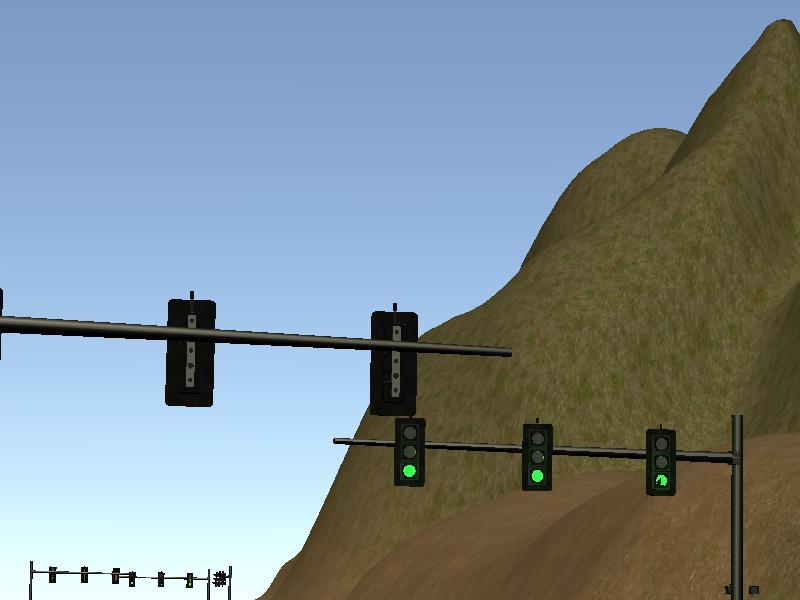Green: (395, 419, 424, 488), (522, 425, 552, 490), (646, 431, 676, 495), (128, 571, 135, 586), (158, 571, 164, 587), (186, 573, 192, 587)
